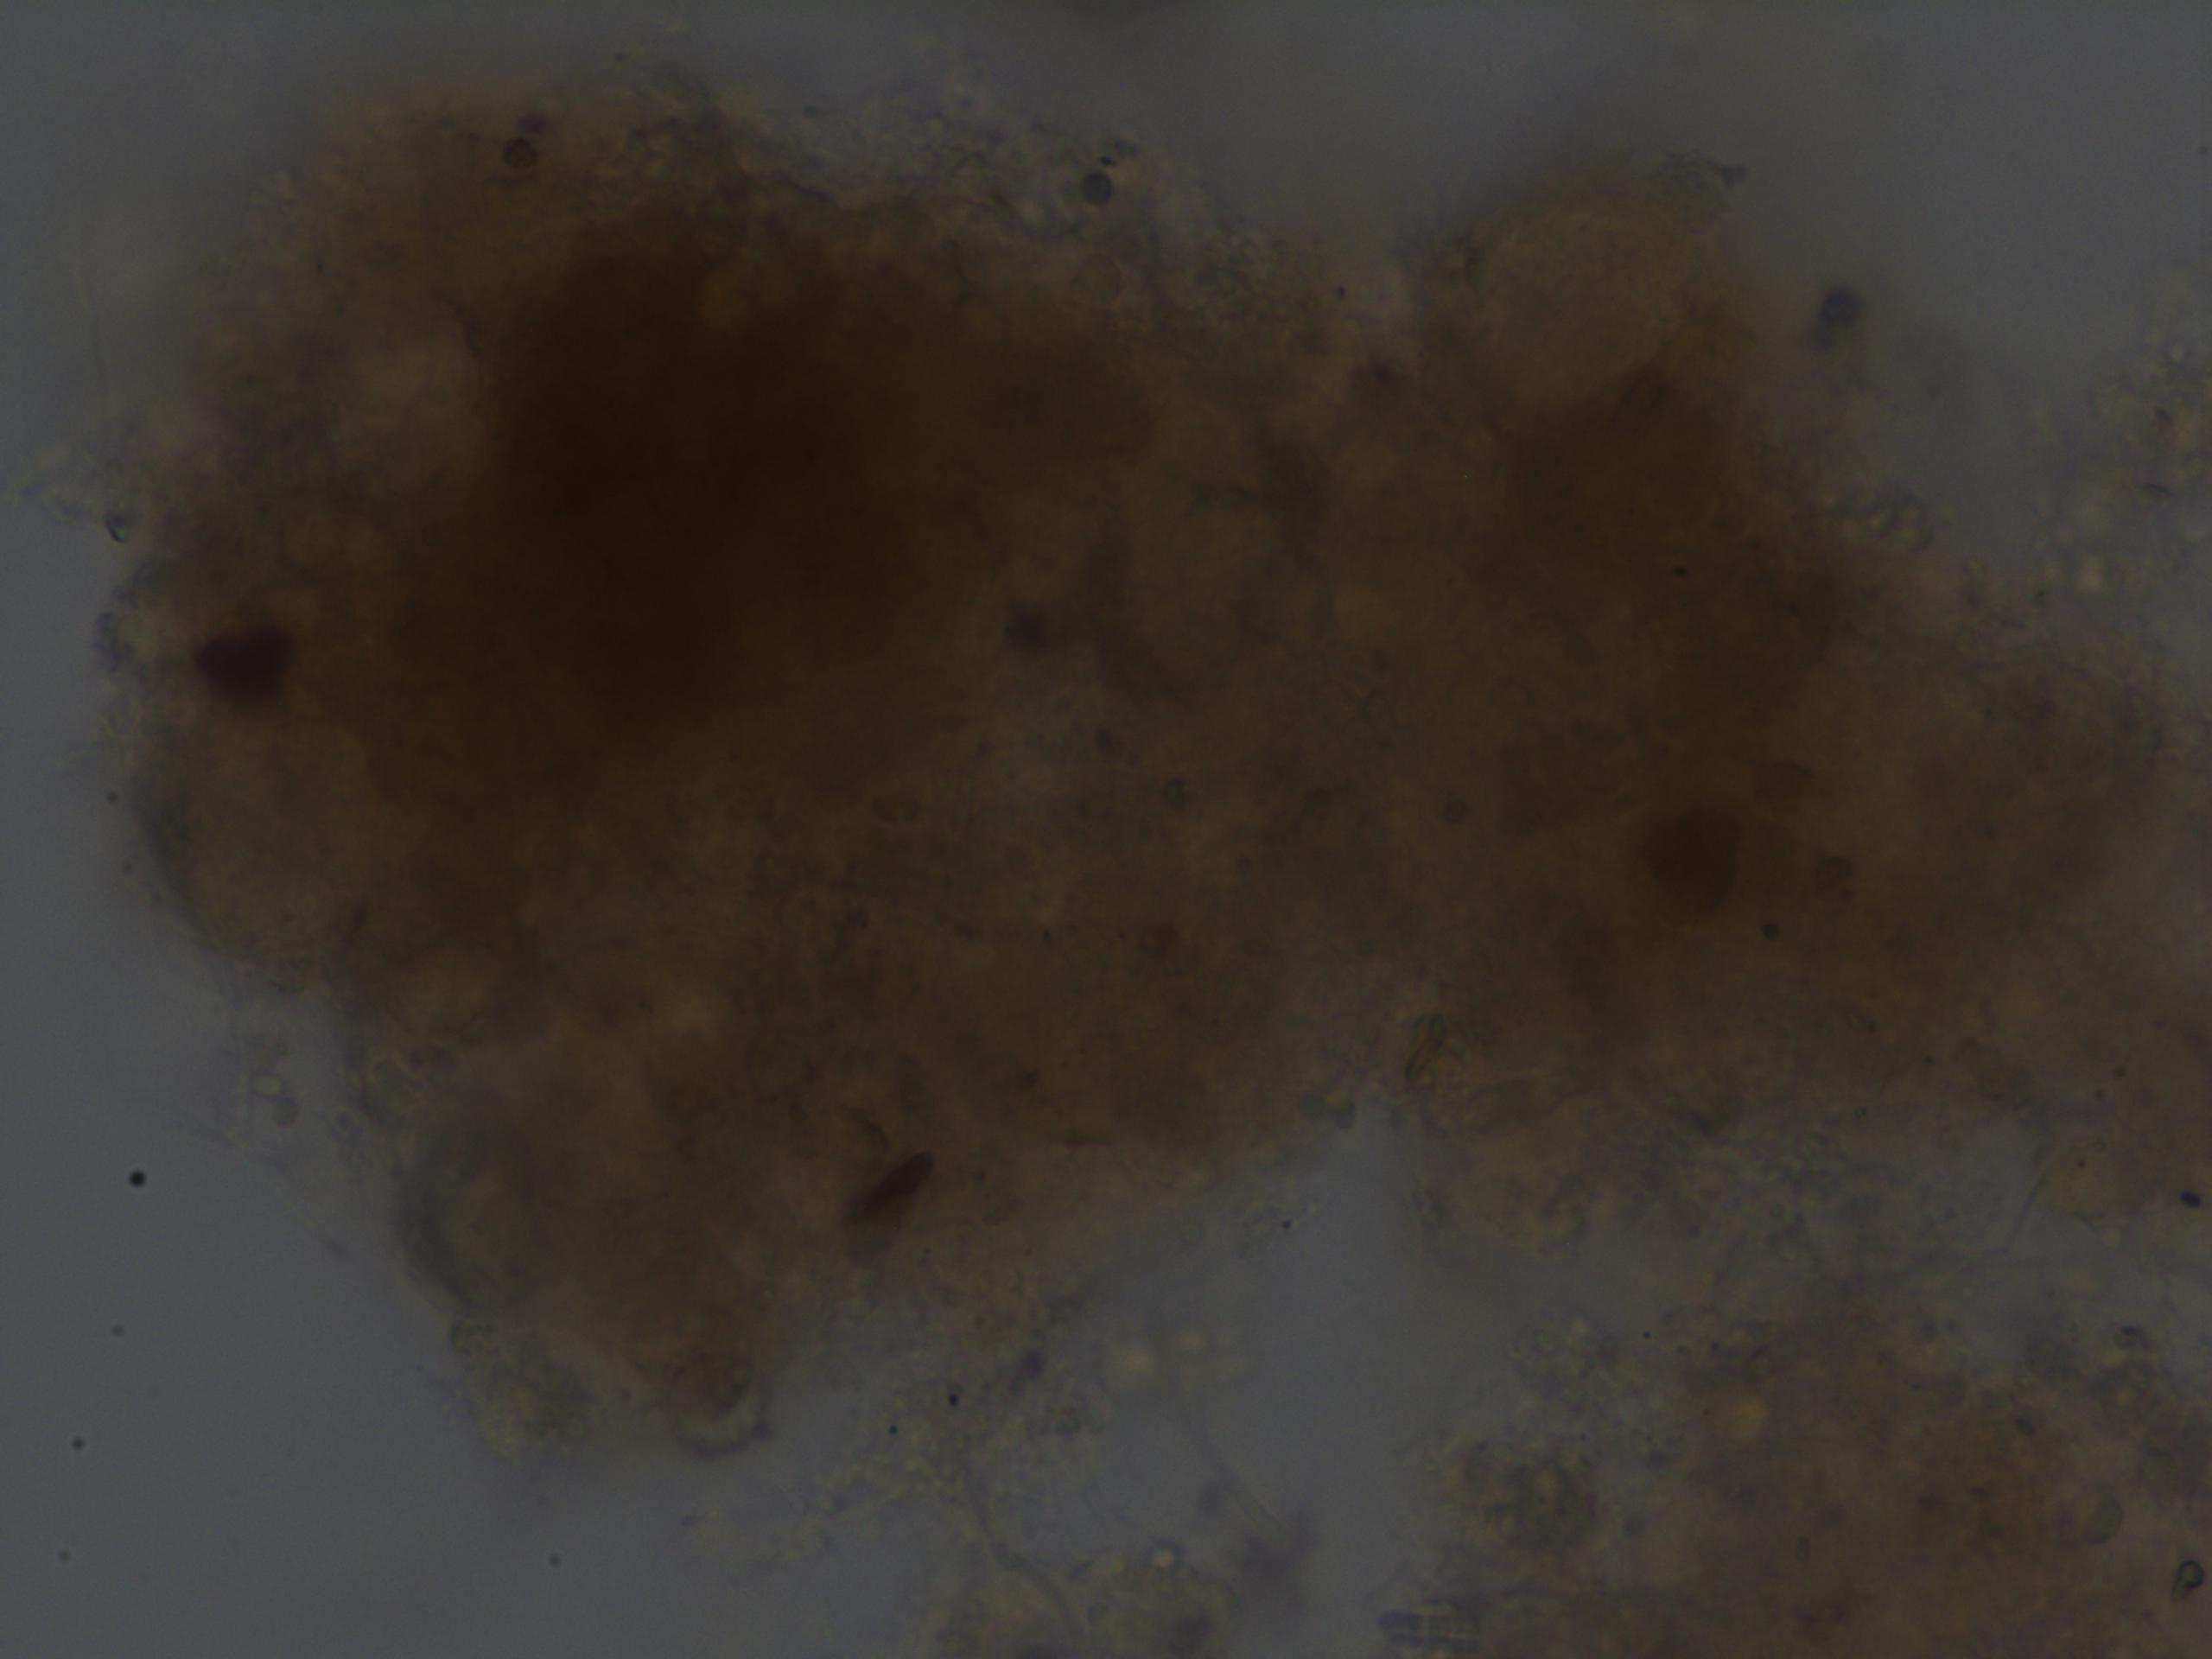spherical_floc: (56, 68, 2182, 1427)
